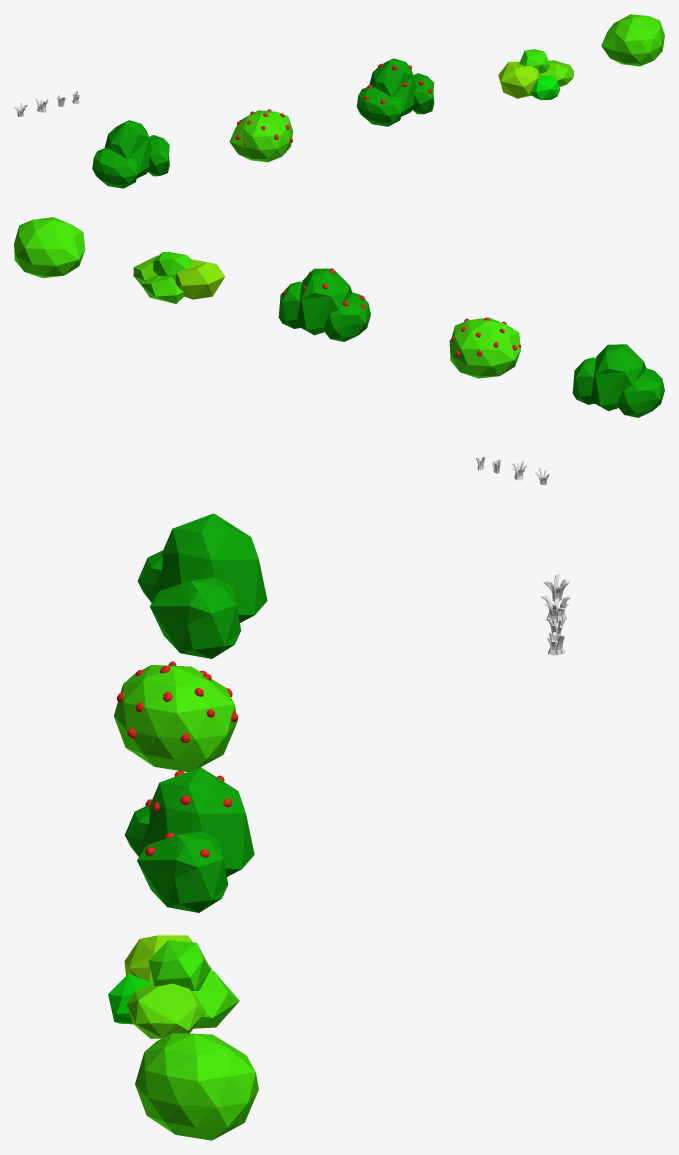
Rendered from Bushes & Grass.fbx.
The picture shows the model from 3 angles, top to bottom: view 1: azimuth 30°, elevation 25°; view 2: azimuth 150°, elevation 25°; view 3: azimuth 270°, elevation 25°; orthographic projection. The views are drawn at different scales.
Visible parts, largest first — view 1: Icosphere.003, Icosphere.016, Icosphere.022, Icosphere.005, Icosphere.010; view 2: Icosphere.003, Icosphere.016, Icosphere.005, Icosphere.010, Icosphere.022; view 3: Icosphere.003, Icosphere.016, Icosphere.005, Icosphere.010, Icosphere.022.
Boxes of the visible parts, <box> form: Icosphere.003: <box>356,58,434,126</box>; Icosphere.016: <box>92,120,169,188</box>; Icosphere.022: <box>498,49,573,100</box>; Icosphere.005: <box>229,109,292,162</box>; Icosphere.010: <box>601,14,664,66</box>; Icosphere.003: <box>278,268,370,341</box>; Icosphere.016: <box>572,344,664,417</box>; Icosphere.005: <box>449,317,521,378</box>; Icosphere.010: <box>14,217,85,277</box>; Icosphere.022: <box>133,251,225,303</box>; Icosphere.003: <box>124,767,254,912</box>; Icosphere.016: <box>137,513,267,658</box>; Icosphere.005: <box>114,661,238,771</box>; Icosphere.010: <box>135,1033,258,1140</box>; Icosphere.022: <box>108,935,239,1038</box>.
Size of the model in its own units: 1253 by 130 by 444.
